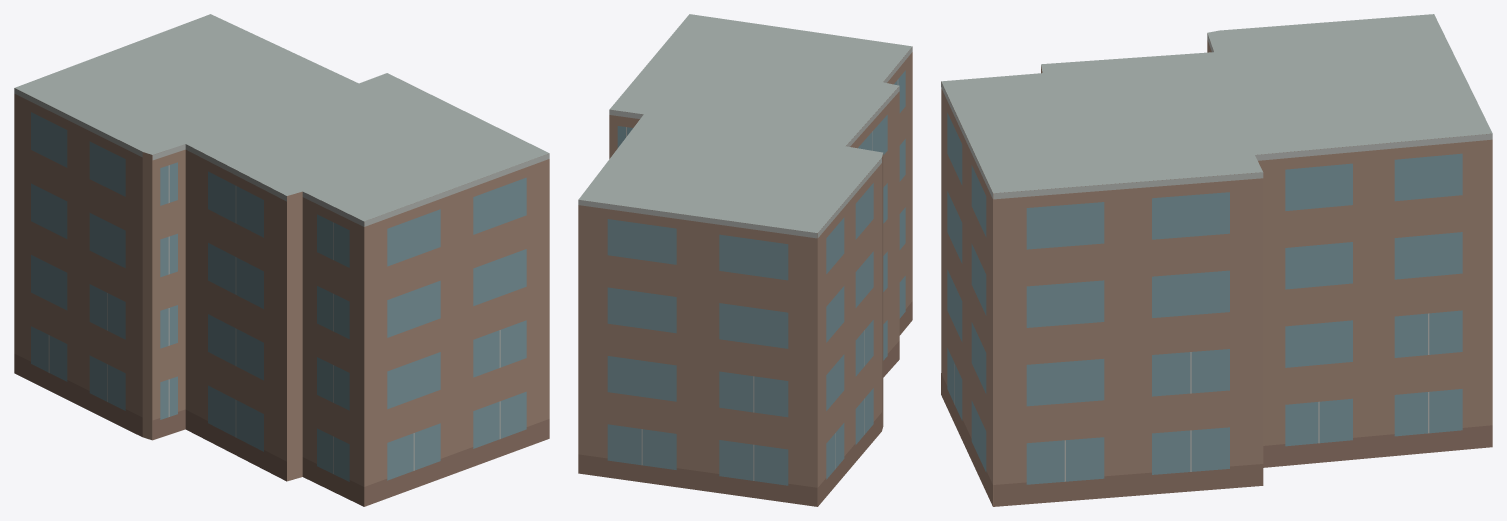
The model's file is survey-upis-32721102.glb.
The picture shows the model from 3 angles, left to right: view 1: azimuth 30°, elevation 25°; view 2: azimuth 150°, elevation 25°; view 3: azimuth 270°, elevation 25°; orthographic projection. The views are drawn at different scales.
Visible parts, largest first — view 1: survey-upis-32721102.tmp; view 2: survey-upis-32721102.tmp; view 3: survey-upis-32721102.tmp.
Part boxes in pixels (box(x1,y1,x2,y2)): survey-upis-32721102.tmp: box(14, 14, 549, 506); survey-upis-32721102.tmp: box(578, 14, 912, 506); survey-upis-32721102.tmp: box(941, 14, 1492, 506).
Bounding box in the file's own units: 15.34 × 12.5 × 19.93.
